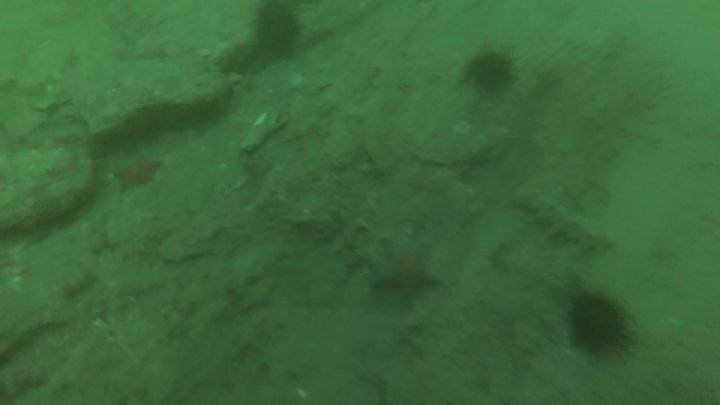echinus: (564, 288, 636, 358), (251, 2, 305, 56), (464, 49, 517, 96)
holothurian: (515, 186, 616, 256)
starfish: (367, 238, 444, 308), (111, 152, 163, 194)
